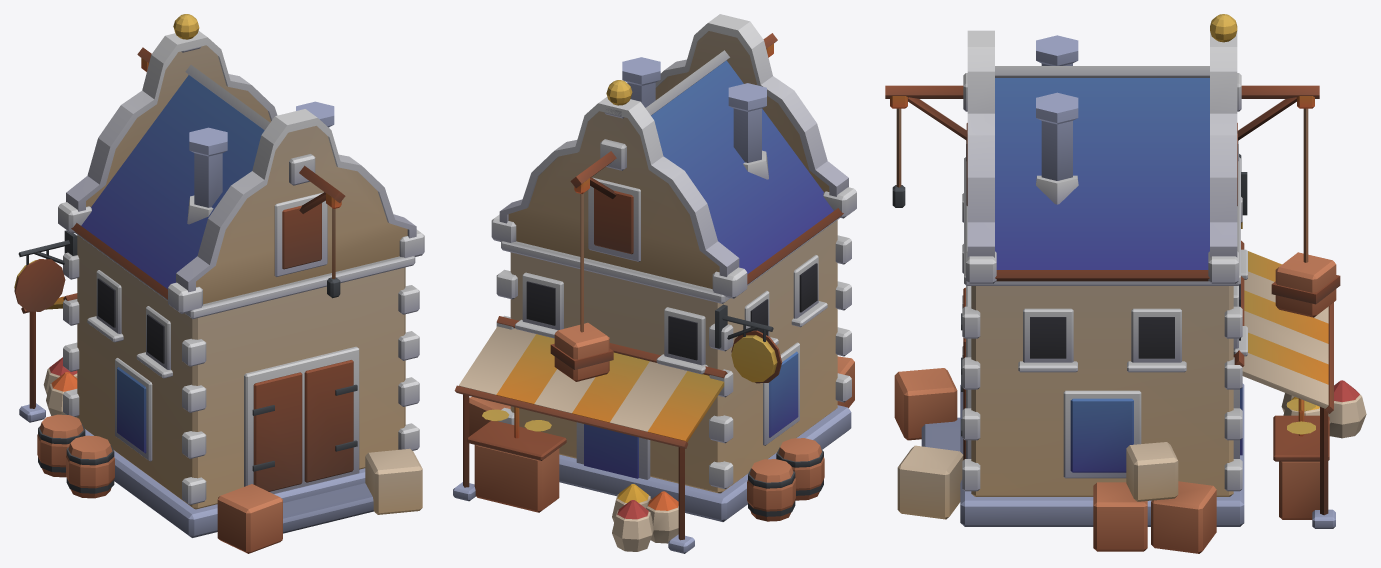
File: tradehouse.glb
The picture shows the model from 3 angles, left to right: view 1: azimuth 30°, elevation 25°; view 2: azimuth 150°, elevation 25°; view 3: azimuth 270°, elevation 25°; orthographic projection. The views are drawn at different scales.
Visible parts, largest first — view 1: body; view 2: body; view 3: body.
Boxes of the visible parts, x1,y1,x2,y2 form: body: [14, 14, 424, 553]; body: [453, 14, 856, 553]; body: [885, 14, 1366, 553].
Size of the model in its own units: 4.66 by 5.51 by 5.32.
